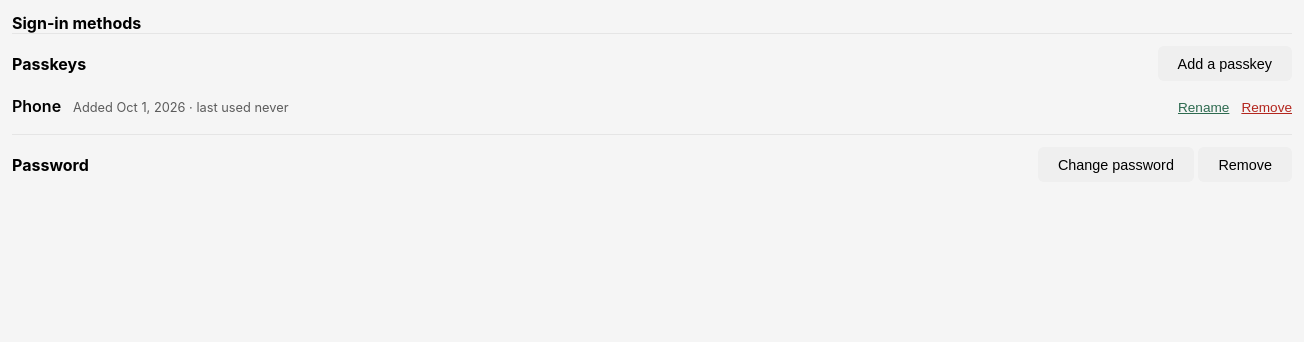
Test: SignInMethods › lists passkeys and changes the password
The width and height of the screenshot is (1304, 342).
Expected: the text "Phone" is shown, [12,96,61,116]
Click the button "Change password" at (1116, 165), box [1038,147,1194,182]
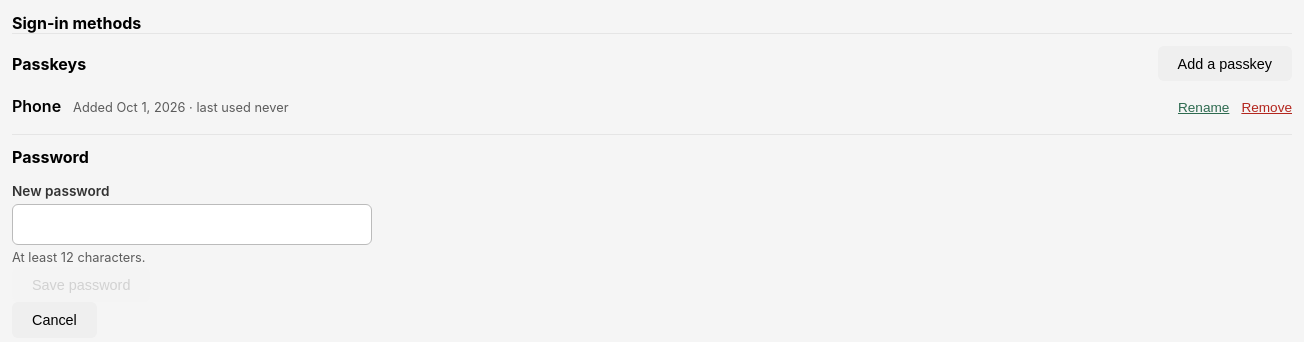
Type "a brand new passphrase" into the password field labelled "New password" at (192, 224), box [12,204,372,245]
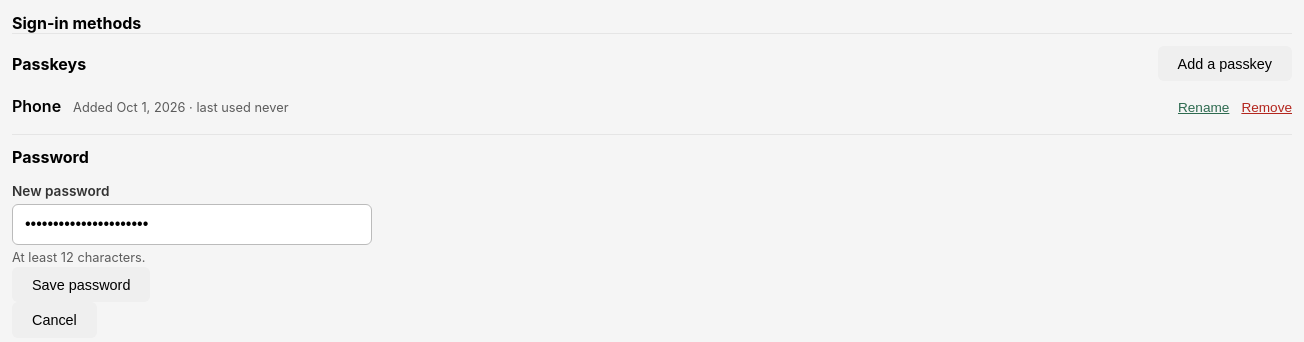
Click the button "Save password" at (81, 285), box [12,267,150,302]
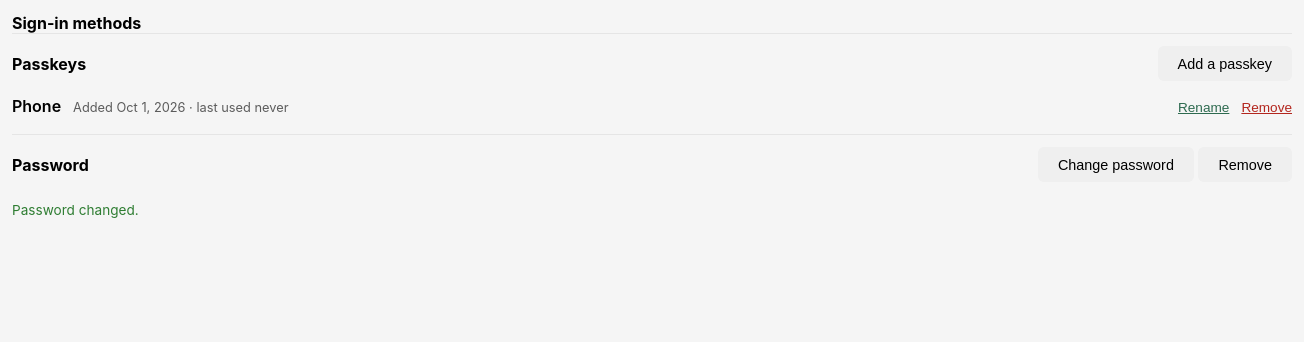
Result: the message reads "Password changed." at [12,202,139,218]
